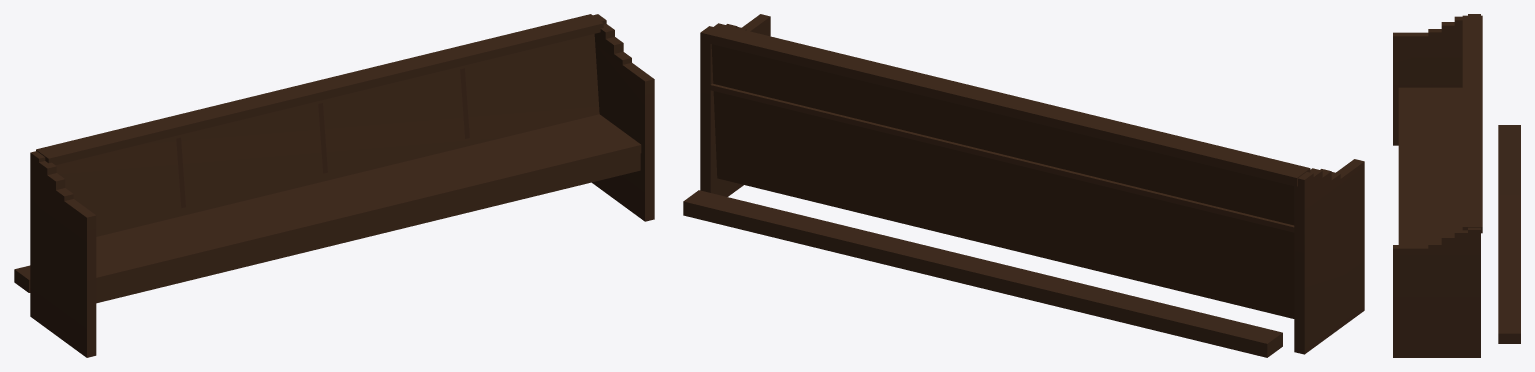
The model's file is seat.pew.dark.glb.
3 views of the same model, side by side, from view 1: azimuth 30°, elevation 25°; view 2: azimuth 150°, elevation 25°; view 3: azimuth 270°, elevation 25° (orthographic). The views are drawn at different scales.
Visible parts, largest first — view 1: seat_pew_dark; view 2: seat_pew_dark; view 3: seat_pew_dark.
Part boxes in pixels (x1=…): seat_pew_dark: x1=14, y1=14, x2=654, y2=357; seat_pew_dark: x1=683, y1=14, x2=1364, y2=357; seat_pew_dark: x1=1393, y1=14, x2=1520, y2=357.
Size of what is drawn, in the model's own units: 3.6 by 1 by 0.9.
